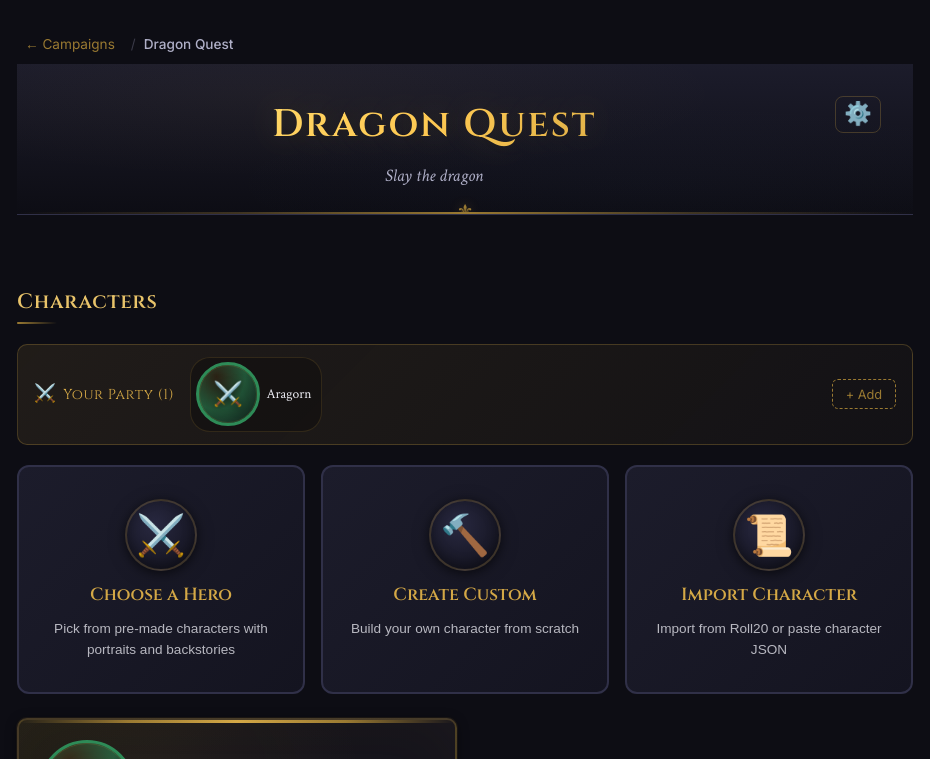
Test: CampaignDetail › shows character import when import button is clicked
Expected: the element with test id "mode-chooser" is shown, x1=17 y1=465 x2=913 y2=694
Click the button with test id "btn-import". click: (769, 535)
box: x1=625 y1=465 x2=913 y2=694
(page scrolled)
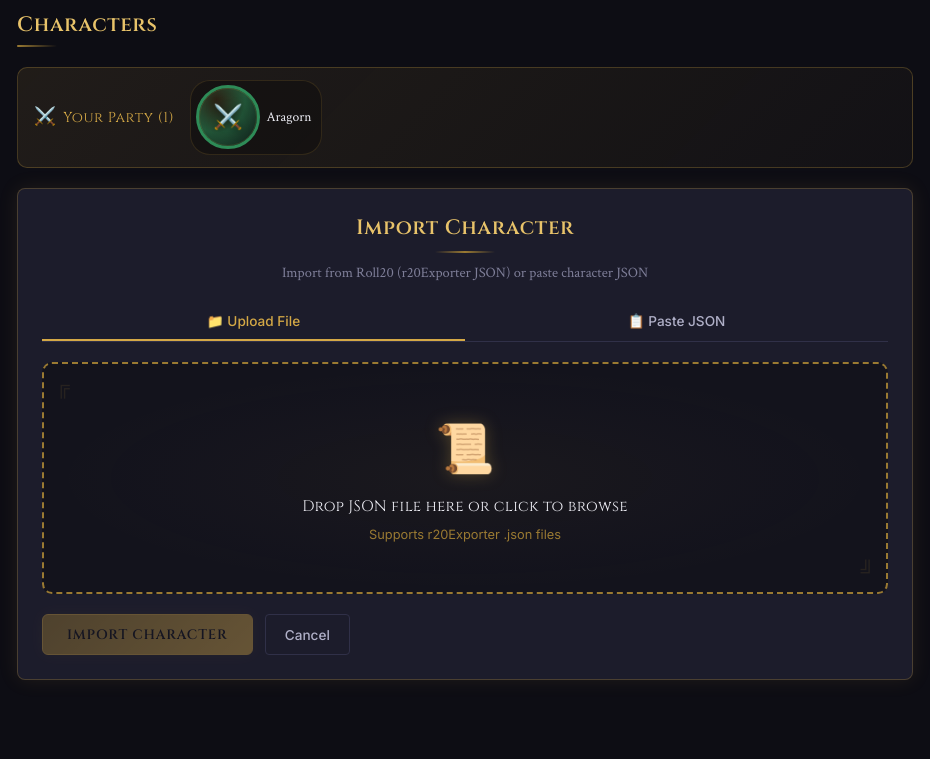
Expected: the element with test id "character-import" is shown
